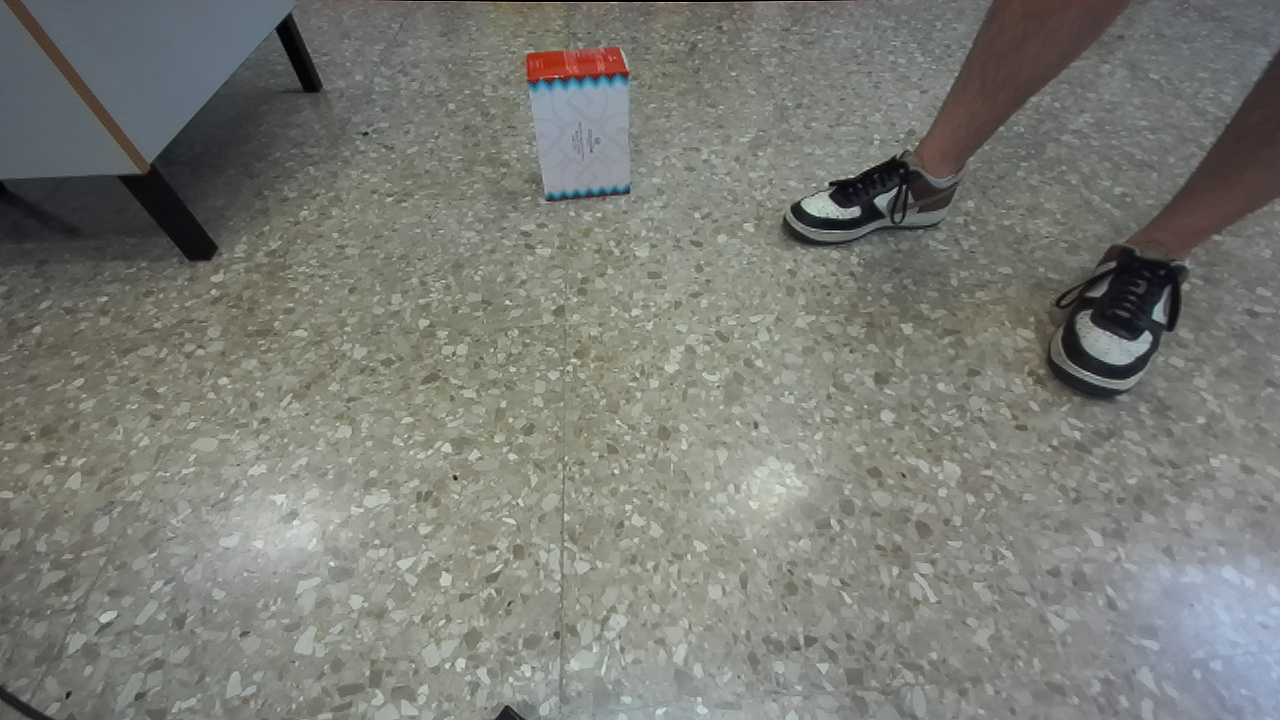caja_busbar: (527, 46, 630, 200)
